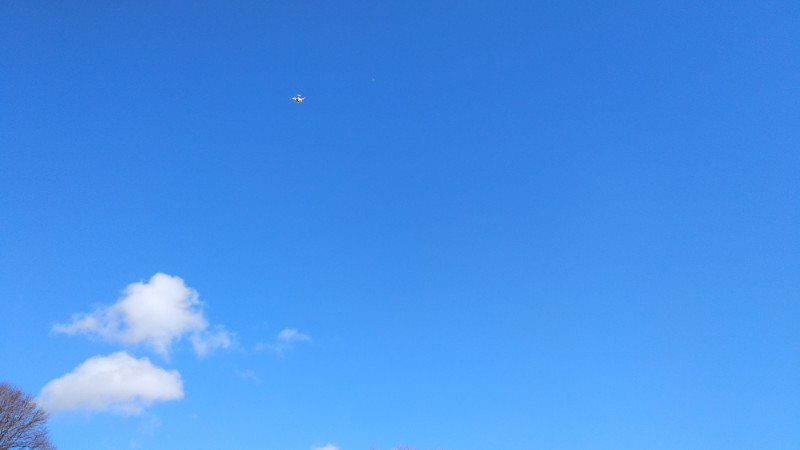drone: (288, 93, 308, 105)
